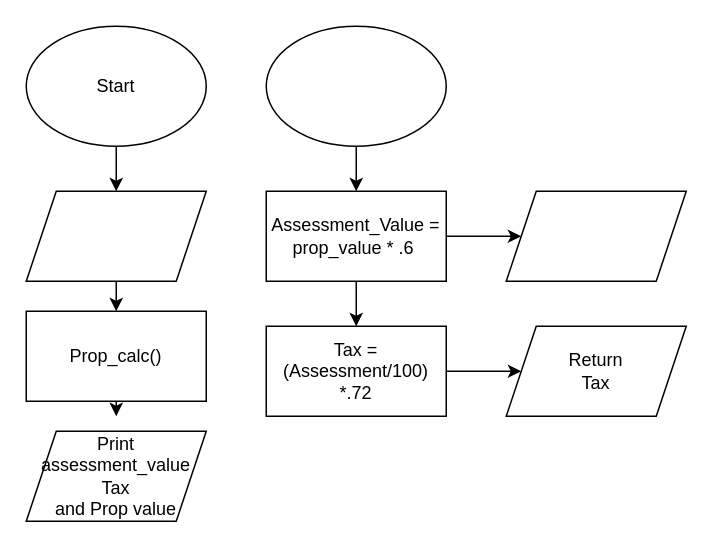
This 713x548 diagram has some shape labels left out. The box of each missing label's shape, as (x1, y1, x2, y2) in pixels:
ask for prop value import validate: (25, 190, 206, 281)
Return Assessment_value: (505, 190, 686, 281)
Start Def Prop calculations: (265, 25, 446, 146)
